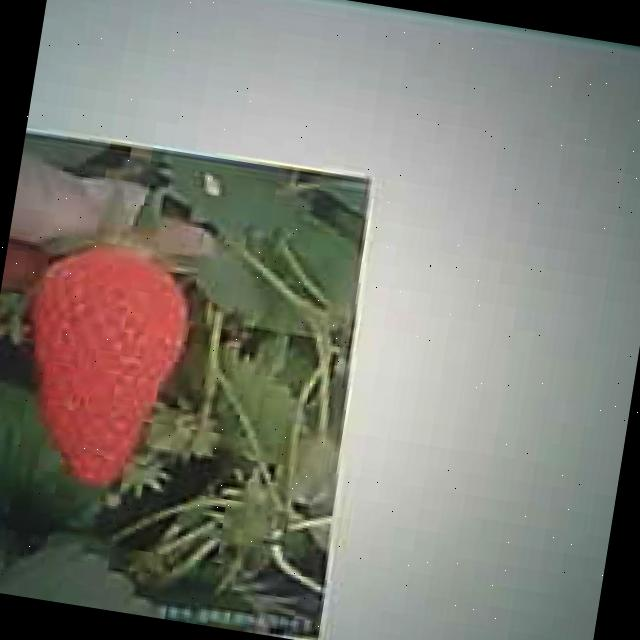strawberry: (11, 235, 200, 494)
